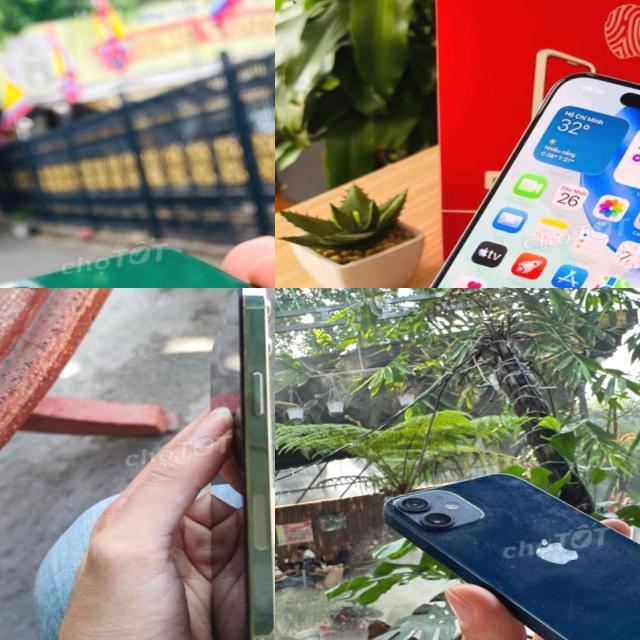scratch: (460, 444, 640, 640)
